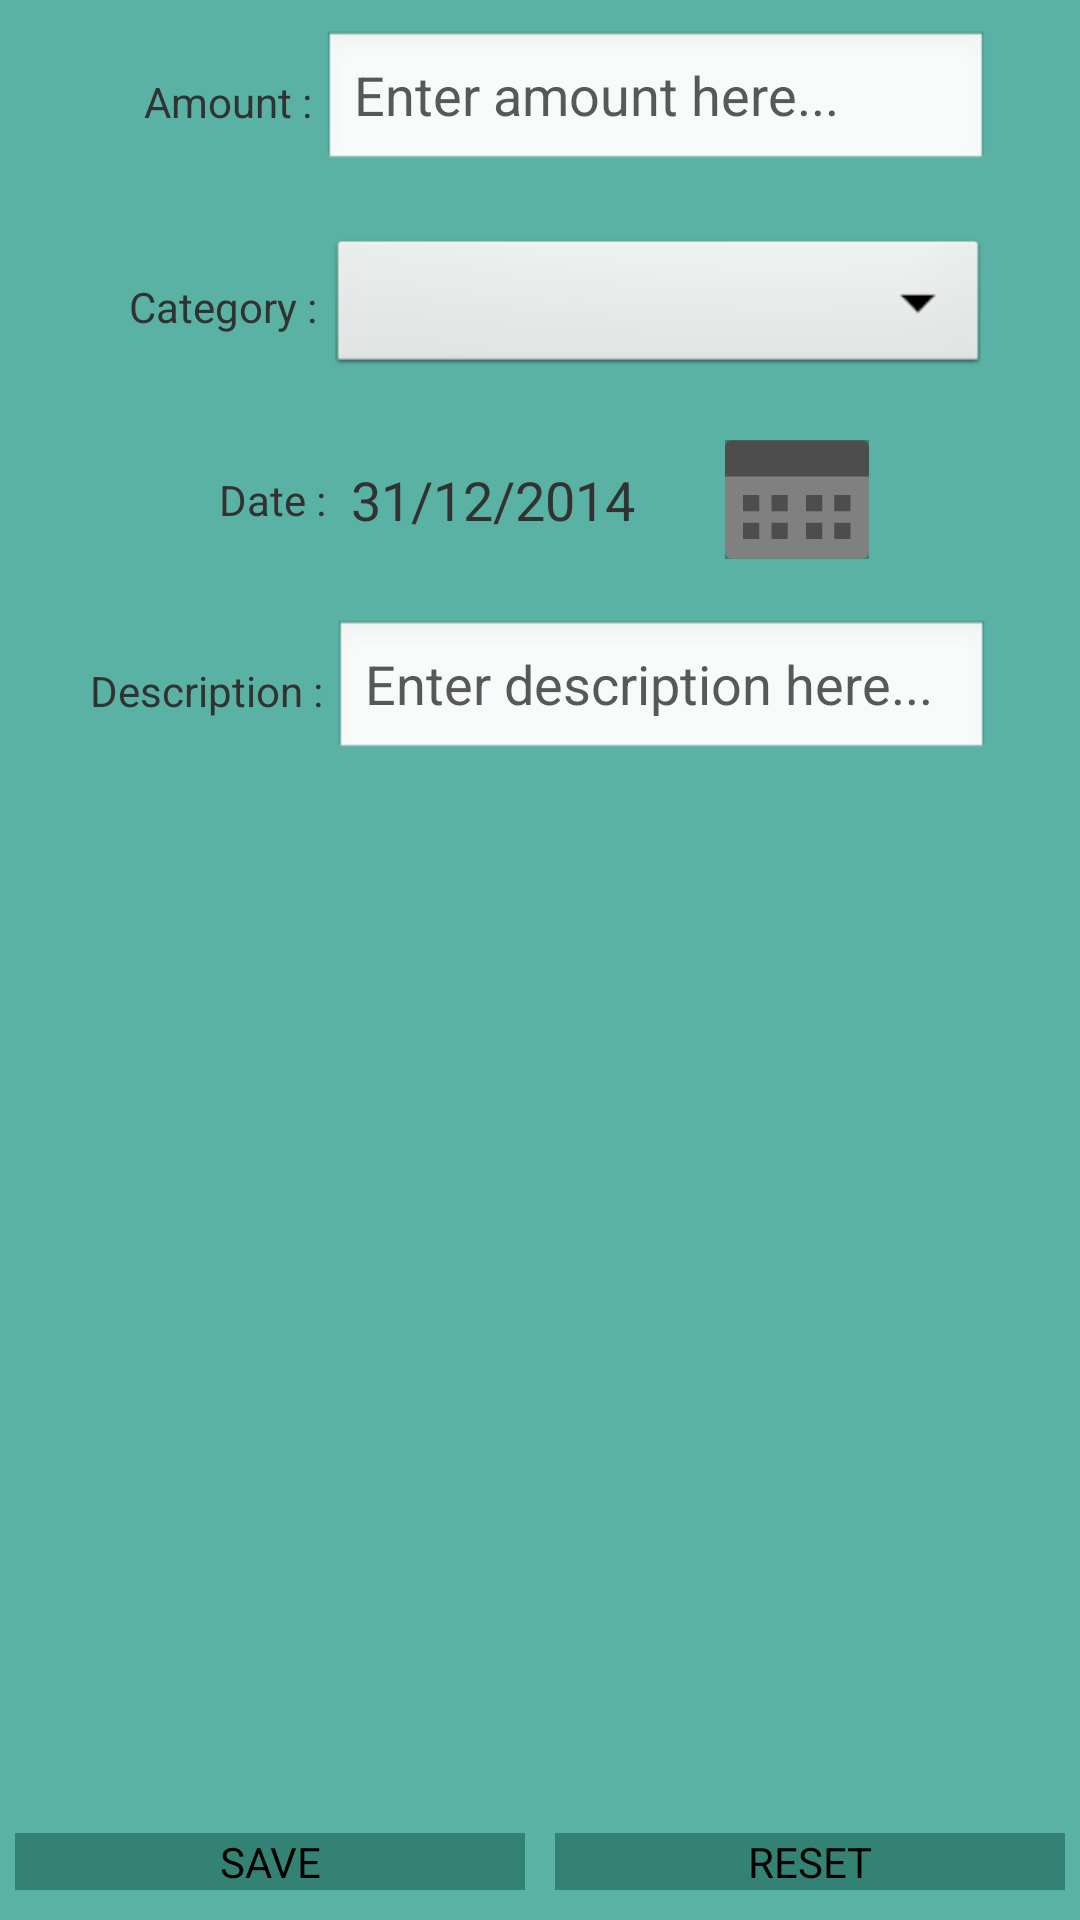

Screen size 1080*1920. Icon name, then its box in pixels as (x1, y1, x2, y2):
calendar: (725, 440, 869, 559)
